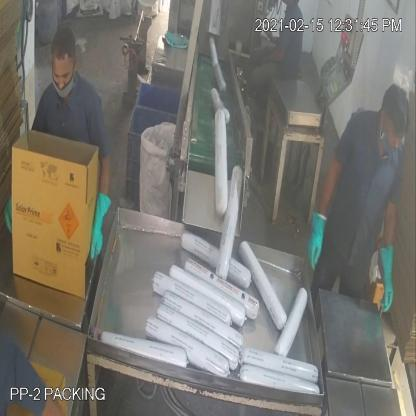glove: (84, 186, 120, 268), (300, 201, 332, 270), (380, 234, 399, 318)
no_glove: (250, 39, 298, 68)
